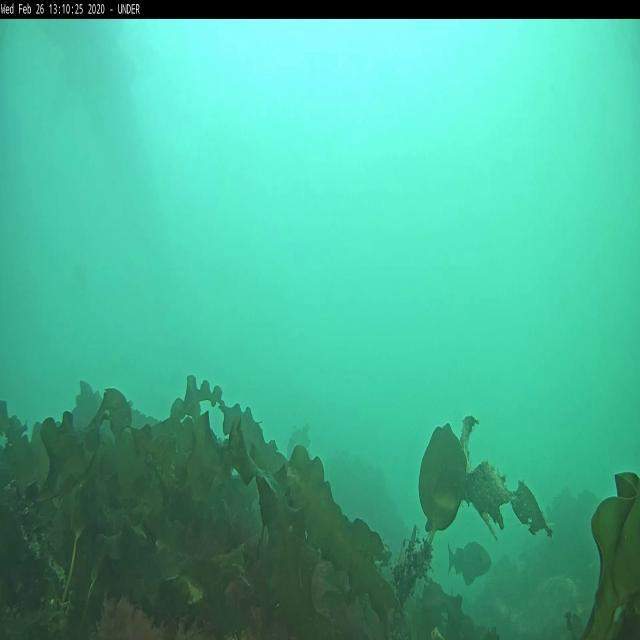fish: (444, 540, 490, 588)
